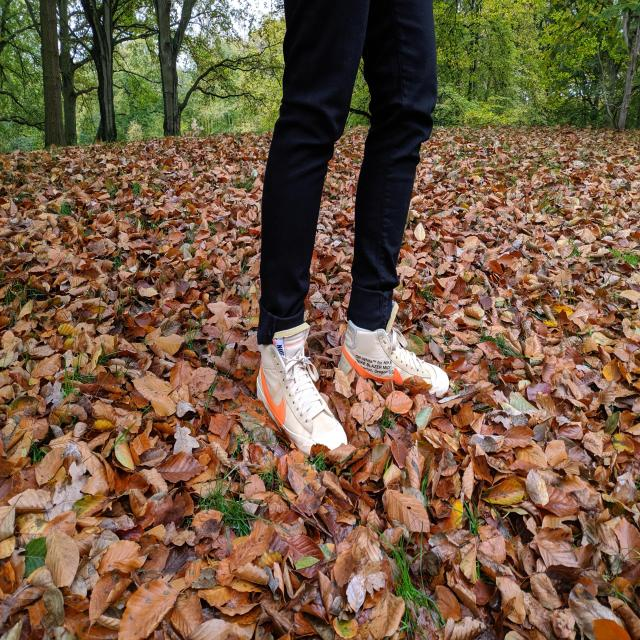shoe: (226, 267, 359, 475), (337, 260, 450, 400)
